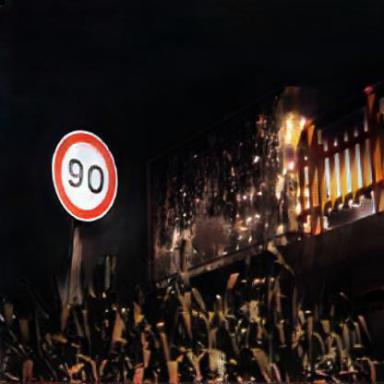Speed_limit_90: (54, 132, 115, 220)
